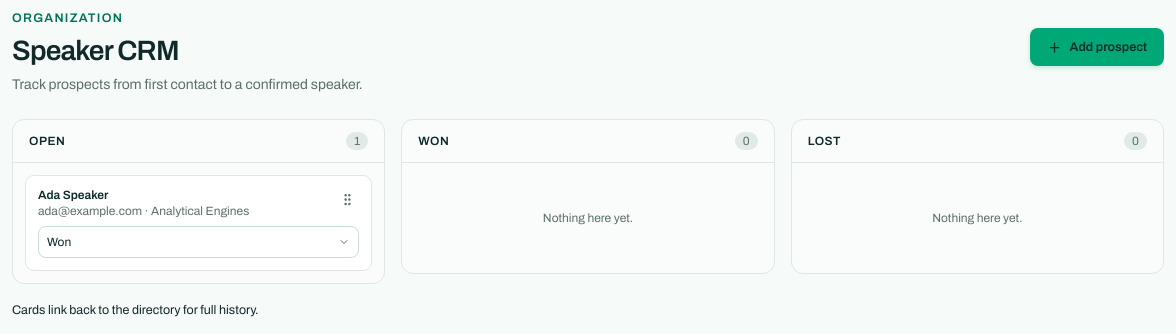
Test case: CRM stage move feedback › undoes against the version the move produced, not the one it started from
Step 1. Select "Won" in the dropdown named "Move Ada Speaker to a different stage" → {"x": 199, "y": 242}, box [38,226,359,258]
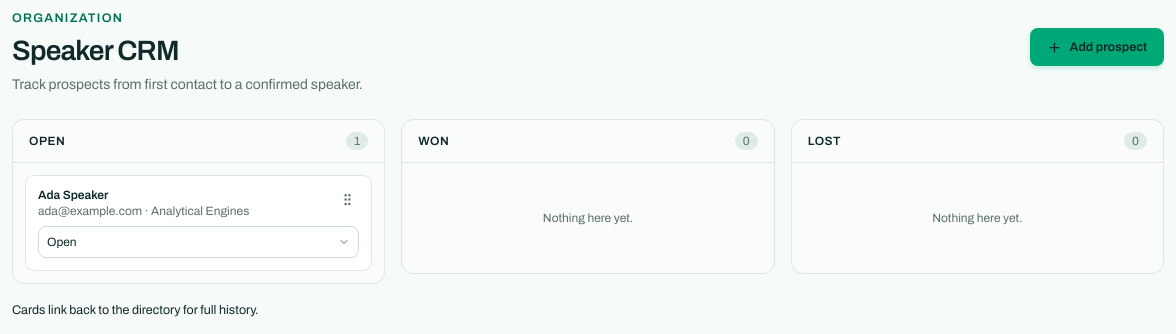
Expected: the dropdown named "Move Ada Speaker to a different stage" shows "Open", [38,226,359,258]
